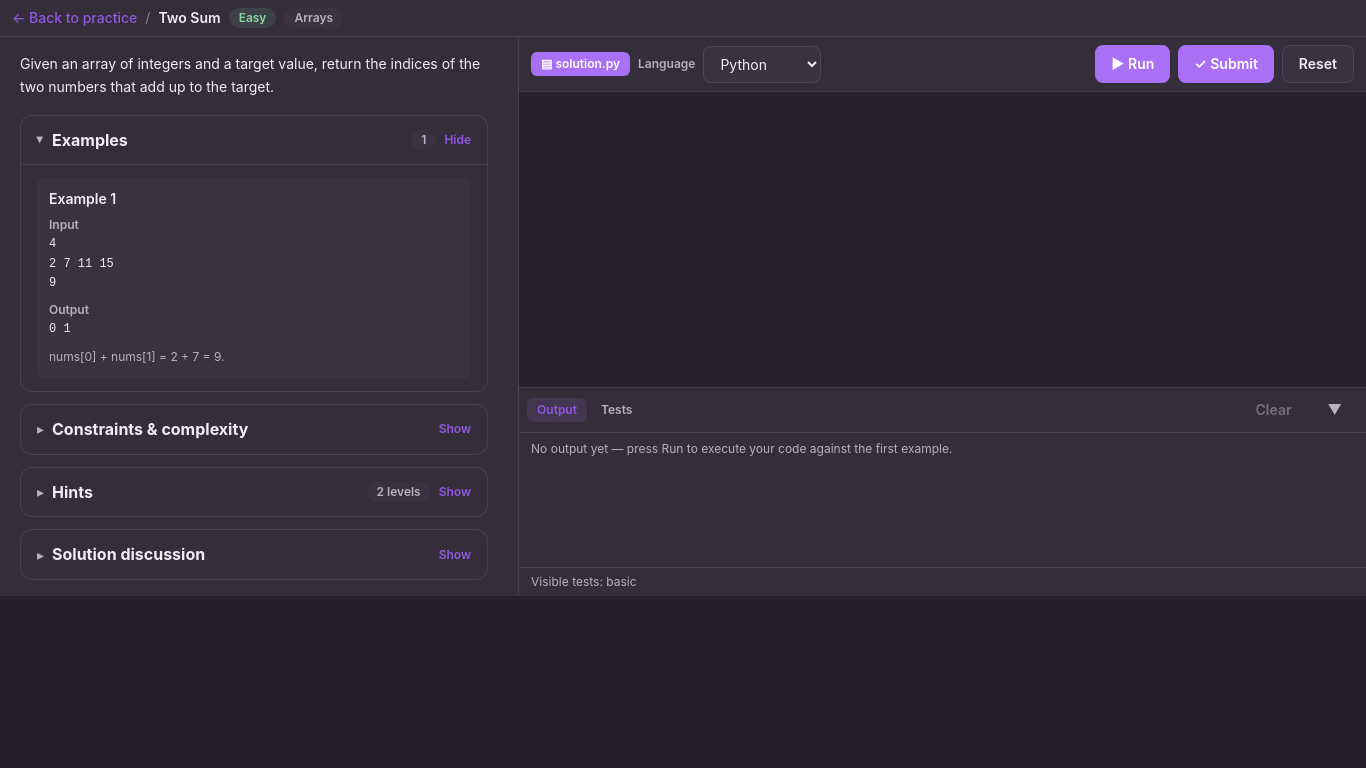
Test: DsaProblemPage › shows an honest empty state, not a blank editor, for a language with no starter
The image size is (1366, 768).
Select "Rust" in the dropdown labelled "Language" at (762, 64), box [703,46,821,82]
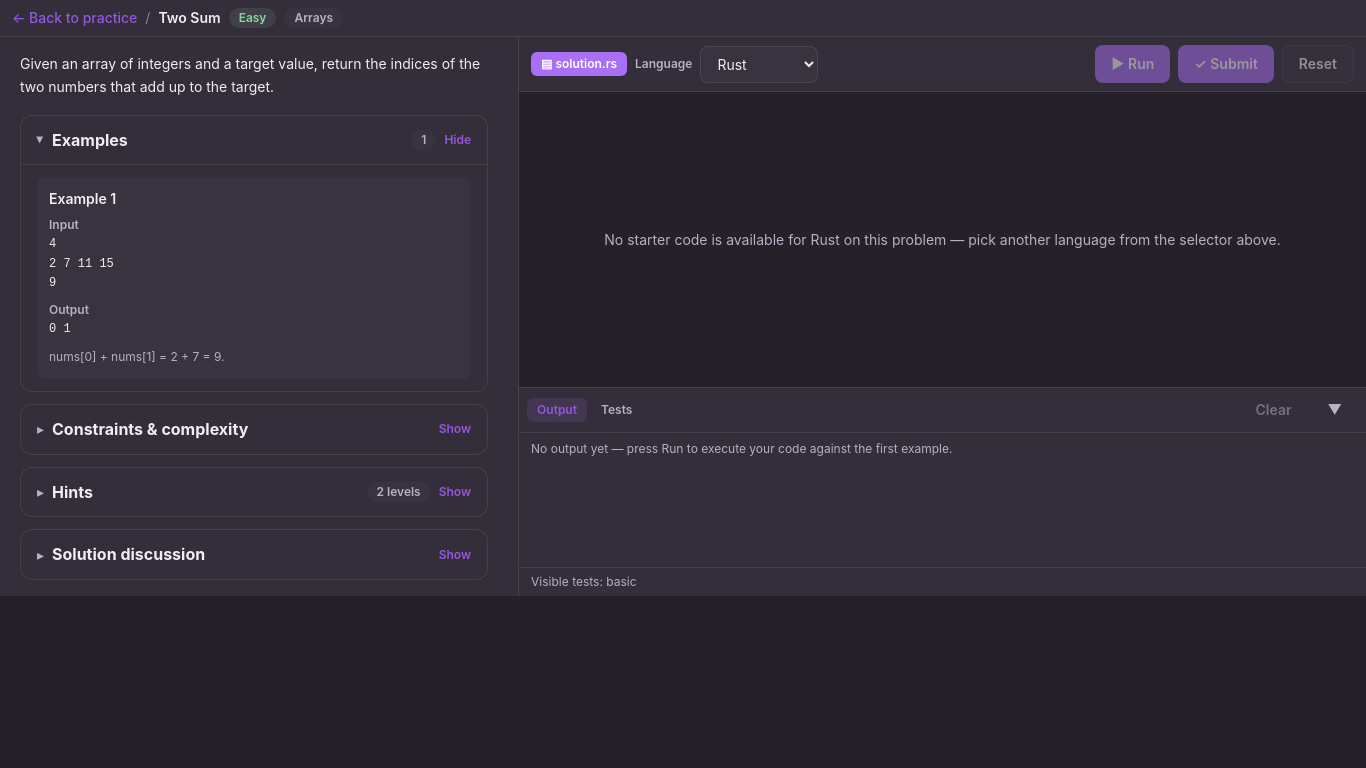
Expected: the text "No starter code is available for Rust on this problem" is shown, [604,230,1281,250]
Expected: the button "▶ Run" is disabled, [1095,45,1170,83]
Expected: the button "✓ Submit" is disabled, [1178,45,1274,83]
